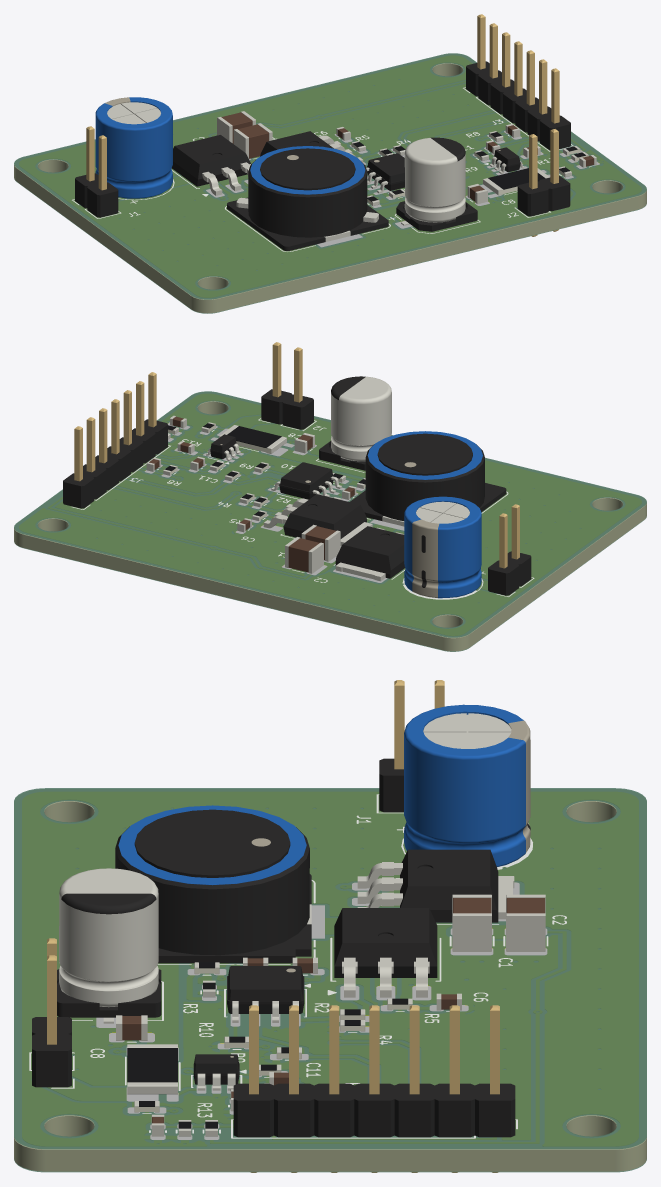
File: sync_buck.glb
3 views of the same model, one above another, from view 1: azimuth 30°, elevation 25°; view 2: azimuth 150°, elevation 25°; view 3: azimuth 270°, elevation 25° (orthographic). The views are drawn at different scales.
Visible parts, largest first — view 1: =>[0:1:1:39], =>[0:1:1:35], =>[0:1:1:41], =>[0:1:1:5], =>[0:1:1:7], =>[0:1:1:22], =>[0:1:1:34], =>[0:1:1:28] (×2), =>[0:1:1:11] (×2), =>[0:1:1:26] (×2), =>[0:1:1:36], =>[0:1:1:32] (+4 smaller); view 2: =>[0:1:1:39], =>[0:1:1:35], =>[0:1:1:41], =>[0:1:1:5], =>[0:1:1:7], =>[0:1:1:22], =>[0:1:1:11] (×2), =>[0:1:1:34], =>[0:1:1:28] (×2), =>[0:1:1:26] (×2), =>[0:1:1:36], =>[0:1:1:32] (+4 smaller); view 3: =>[0:1:1:39], =>[0:1:1:35], =>[0:1:1:41], =>[0:1:1:5], =>[0:1:1:22], =>[0:1:1:7], =>[0:1:1:11] (×2), =>[0:1:1:34], =>[0:1:1:28] (×2), =>[0:1:1:26] (×2), =>[0:1:1:36], =>[0:1:1:32] (+5 smaller).
Part boxes in pixels (x1,y1,x2,y2): =>[0:1:1:39]: (14, 53, 646, 299); =>[0:1:1:35]: (19, 56, 641, 297); =>[0:1:1:41]: (14, 54, 646, 313); =>[0:1:1:5]: (227, 146, 388, 250); =>[0:1:1:7]: (95, 97, 172, 198); =>[0:1:1:22]: (466, 14, 570, 150); =>[0:1:1:34]: (396, 137, 477, 231); =>[0:1:1:28] (×2): (75, 126, 570, 236); =>[0:1:1:11] (×2): (172, 131, 363, 195); =>[0:1:1:26] (×2): (217, 111, 272, 158); =>[0:1:1:36]: (206, 131, 599, 247); =>[0:1:1:32]: (366, 153, 404, 193); =>[0:1:1:39]: (14, 391, 646, 637); =>[0:1:1:35]: (19, 394, 641, 635); =>[0:1:1:41]: (14, 392, 646, 651); =>[0:1:1:5]: (350, 431, 506, 526); =>[0:1:1:7]: (404, 496, 481, 598); =>[0:1:1:22]: (63, 372, 167, 508); =>[0:1:1:11] (×2): (263, 494, 405, 581); =>[0:1:1:34]: (319, 376, 391, 470); =>[0:1:1:28] (×2): (261, 342, 531, 595); =>[0:1:1:26] (×2): (285, 524, 340, 573); =>[0:1:1:36]: (144, 422, 404, 582); =>[0:1:1:32]: (271, 462, 341, 499); =>[0:1:1:39]: (14, 788, 646, 1149); =>[0:1:1:35]: (22, 792, 638, 1145); =>[0:1:1:41]: (14, 789, 646, 1171); =>[0:1:1:5]: (115, 805, 311, 963); =>[0:1:1:22]: (233, 1005, 515, 1172); =>[0:1:1:7]: (404, 704, 530, 866); =>[0:1:1:11] (×2): (334, 849, 514, 997); =>[0:1:1:34]: (57, 868, 161, 1023); =>[0:1:1:28] (×2): (32, 680, 444, 1087); =>[0:1:1:26] (×2): (452, 894, 545, 951); =>[0:1:1:36]: (96, 882, 547, 1139); =>[0:1:1:32]: (227, 966, 304, 1022).
Bounding box in the file's own units: 0.054 × 0.0115 × 0.04.
